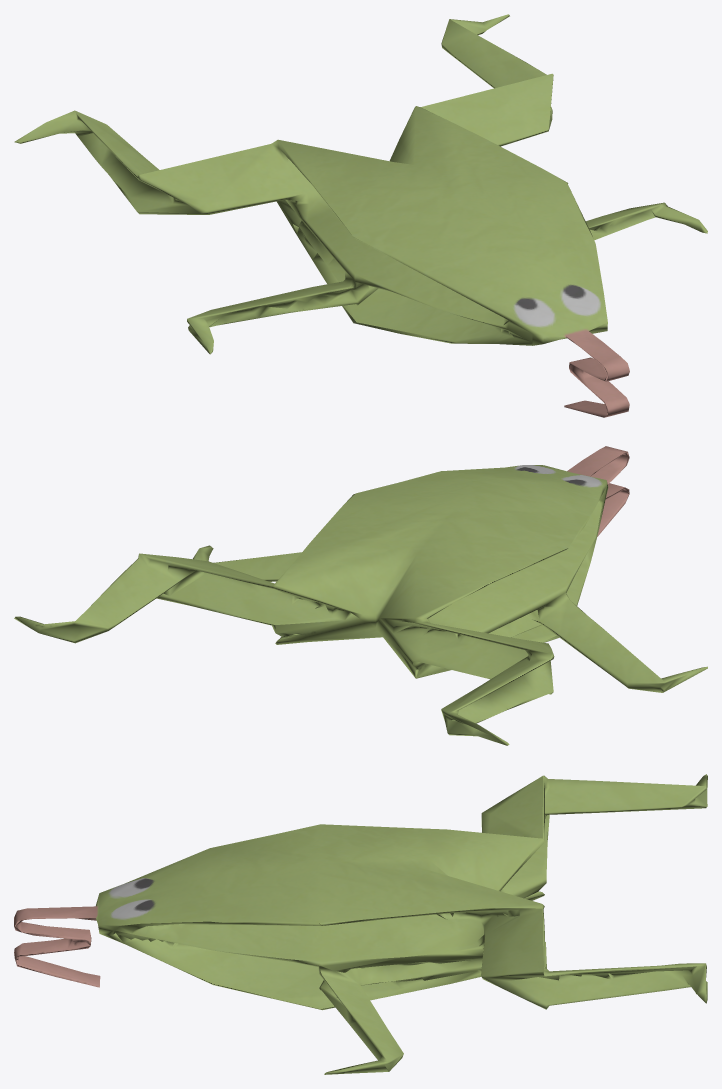
The model's file is frog_FDRemesh_LOD2.fbx.
3 renders of one model, top to bottom at view 1: azimuth 30°, elevation 25°; view 2: azimuth 150°, elevation 25°; view 3: azimuth 270°, elevation 25°, orthographic. The views are drawn at different scales.
Visible parts, largest first — view 1: Simplygon_Proxy_e0f57f0a-853d-4fcf-ba9d-9f193418309c; view 2: Simplygon_Proxy_e0f57f0a-853d-4fcf-ba9d-9f193418309c; view 3: Simplygon_Proxy_e0f57f0a-853d-4fcf-ba9d-9f193418309c.
Boxes of the visible parts, x1,y1,x2,y2 form: Simplygon_Proxy_e0f57f0a-853d-4fcf-ba9d-9f193418309c: [14, 14, 707, 417]; Simplygon_Proxy_e0f57f0a-853d-4fcf-ba9d-9f193418309c: [14, 446, 707, 745]; Simplygon_Proxy_e0f57f0a-853d-4fcf-ba9d-9f193418309c: [14, 774, 707, 1074].
Bounding box in the file's own units: 114 × 27.23 × 141.
1 material, 1 textured.
